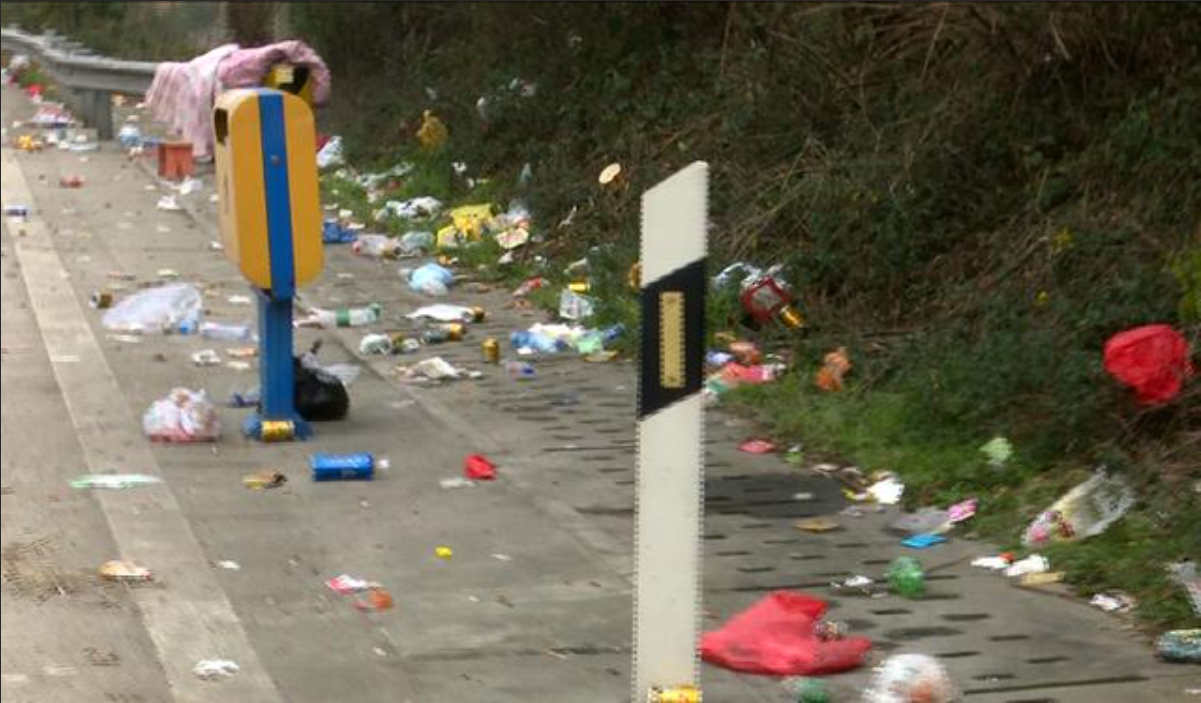garbage: (699, 563, 883, 692), (715, 238, 837, 414), (147, 40, 341, 134), (303, 299, 506, 383), (1010, 457, 1145, 554), (80, 273, 250, 348), (315, 203, 534, 261), (503, 273, 632, 369), (1084, 309, 1196, 411), (10, 64, 109, 157), (271, 344, 361, 437), (129, 380, 234, 444), (851, 651, 979, 703), (880, 493, 990, 551), (167, 343, 271, 386), (319, 573, 402, 619), (426, 450, 505, 496), (299, 445, 390, 482), (303, 301, 393, 338), (63, 463, 167, 495), (989, 547, 1070, 588), (390, 260, 470, 298), (84, 550, 168, 586), (310, 130, 370, 174), (258, 406, 318, 441), (41, 166, 106, 198), (866, 469, 912, 512), (237, 470, 296, 495), (195, 656, 248, 680), (3, 201, 37, 238), (738, 431, 782, 457)
